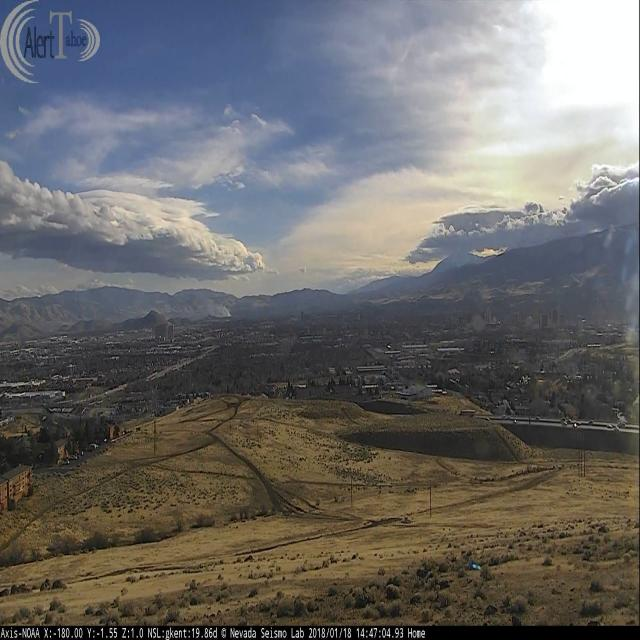smoke: (180, 303, 231, 317)
